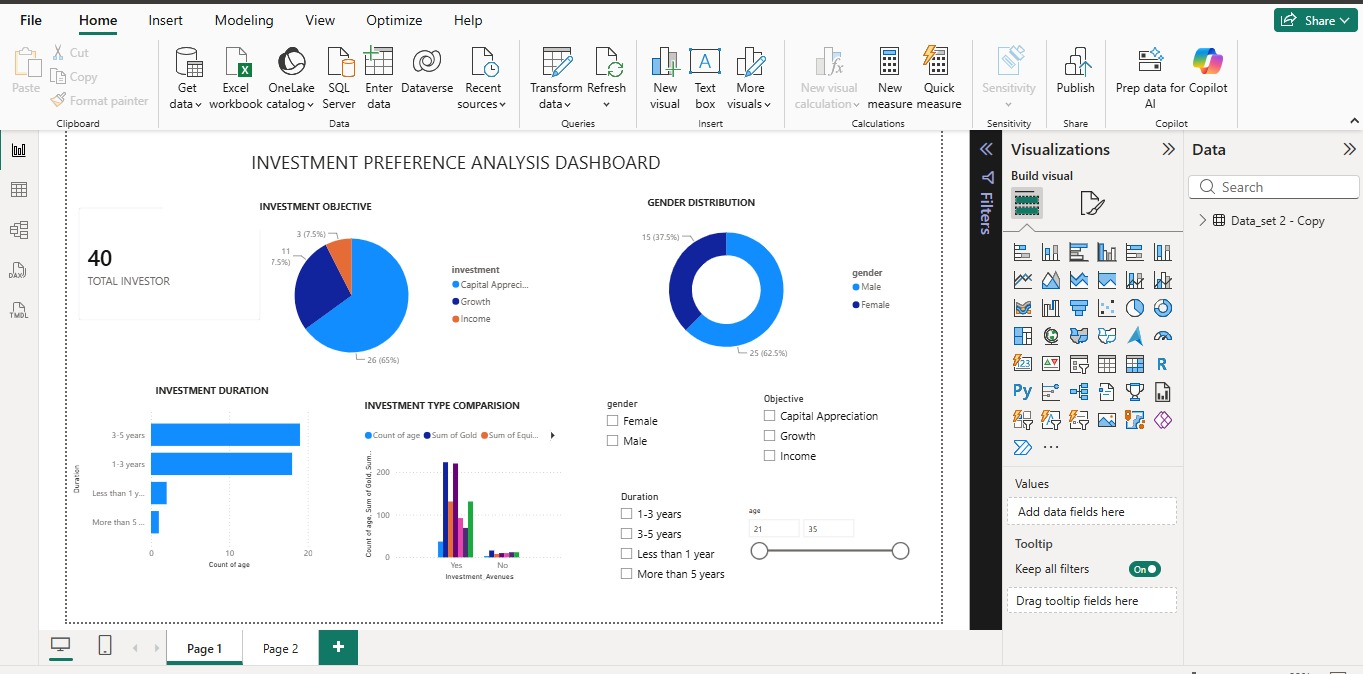

Layout of this report page (visuals, bound fields, positions):
{"tool":"powerbi","page":{"name":"Page 1","canvas":[1280,720],"ordinal":0},"visuals":[{"type":"pieChart","fields":{"Category":["Data_set 2 - Copy.Objective","Data_set 2 - Copy.gender"],"Y":["CountNonNull(Data_set 2 - Copy.age)"]},"box":[264.9,118.5,430.2,247.3],"z":0},{"type":"clusteredBarChart","fields":{"Category":["Data_set 2 - Copy.Duration"],"Y":["CountNonNull(Data_set 2 - Copy.age)"]},"box":[2.9,399.5,361.5,247.3],"z":1000},{"type":"donutChart","fields":{"Y":["CountNonNull(Data_set 2 - Copy.age)"],"Category":["Data_set 2 - Copy.gender"]},"box":[775.6,96.6,443.4,253.2],"z":2000},{"type":"clusteredColumnChart","fields":{"Category":["Data_set 2 - Copy.Investment_Avenues"],"Y":["CountNonNull(Data_set 2 - Copy.age)","Sum(Data_set 2 - Copy.Gold)","Sum(Data_set 2 - Copy.Equity_Market)","Sum(Data_set 2 - Copy.Debentures)","Sum(Data_set 2 - Copy.Mutual_Funds)","Sum(Data_set 2 - Copy.PPF)","Sum(Data_set 2 - Copy.Fixed_Deposits)"]},"box":[430.2,427.3,300,237.1],"z":3000},{"type":"slicer","fields":{"Values":["Data_set 2 - Copy.gender"]},"box":[777.1,387.8,196.1,114.1],"z":4000},{"type":"slicer","fields":{"Values":["Data_set 2 - Copy.Objective"]},"box":[1006.8,380.5,223.9,128.8],"z":5000},{"type":"slicer","fields":{"Values":["Data_set 2 - Copy.Duration"]},"box":[797.6,523.9,175.6,196.1],"z":6000},{"type":"slicer","fields":{"Values":["Data_set 2 - Copy.age"]},"box":[984.9,545.9,256.1,149.3],"z":7000},{"type":"cardVisual","fields":{"Data":["CountNonNull(Data_set 2 - Copy.age)"]},"box":[0,96.6,300,199],"z":8000},{"type":"textbox","box":[140.5,23.4,857.6,93.7],"z":9000},{"type":"textbox","box":[276.6,96.6,345.4,49.8],"z":10000},{"type":"textbox","box":[844.4,90.7,281,42.4],"z":11000},{"type":"textbox","box":[124.4,365.9,250.2,33.7],"z":12000},{"type":"textbox","box":[430.2,387.8,330.7,39.5],"z":13000}]}

Visuals, with their boxes on the page's 1280x720 design canvas (x1, y1, x2, y2). These are canvas units, not pixel positions in the 1363x674 screenshot, which may show the page scaled, cropped or inside an application window:
pieChart - Data_set 2 - Copy.Objective x Data_set 2 - Copy.gender: region(265, 118, 695, 366)
clusteredBarChart - Data_set 2 - Copy.Duration x CountNonNull(Data_set 2 - Copy.age): region(3, 400, 364, 647)
donutChart - CountNonNull(Data_set 2 - Copy.age) x Data_set 2 - Copy.gender: region(776, 97, 1219, 350)
clusteredColumnChart - Data_set 2 - Copy.Investment_Avenues x CountNonNull(Data_set 2 - Copy.age): region(430, 427, 730, 664)
slicer - Data_set 2 - Copy.gender: region(777, 388, 973, 502)
slicer - Data_set 2 - Copy.Objective: region(1007, 380, 1231, 509)
slicer - Data_set 2 - Copy.Duration: region(798, 524, 973, 720)
slicer - Data_set 2 - Copy.age: region(985, 546, 1241, 695)
cardVisual - CountNonNull(Data_set 2 - Copy.age): region(0, 97, 300, 296)
textbox: region(140, 23, 998, 117)
textbox: region(277, 97, 622, 146)
textbox: region(844, 91, 1125, 133)
textbox: region(124, 366, 375, 400)
textbox: region(430, 388, 761, 427)
